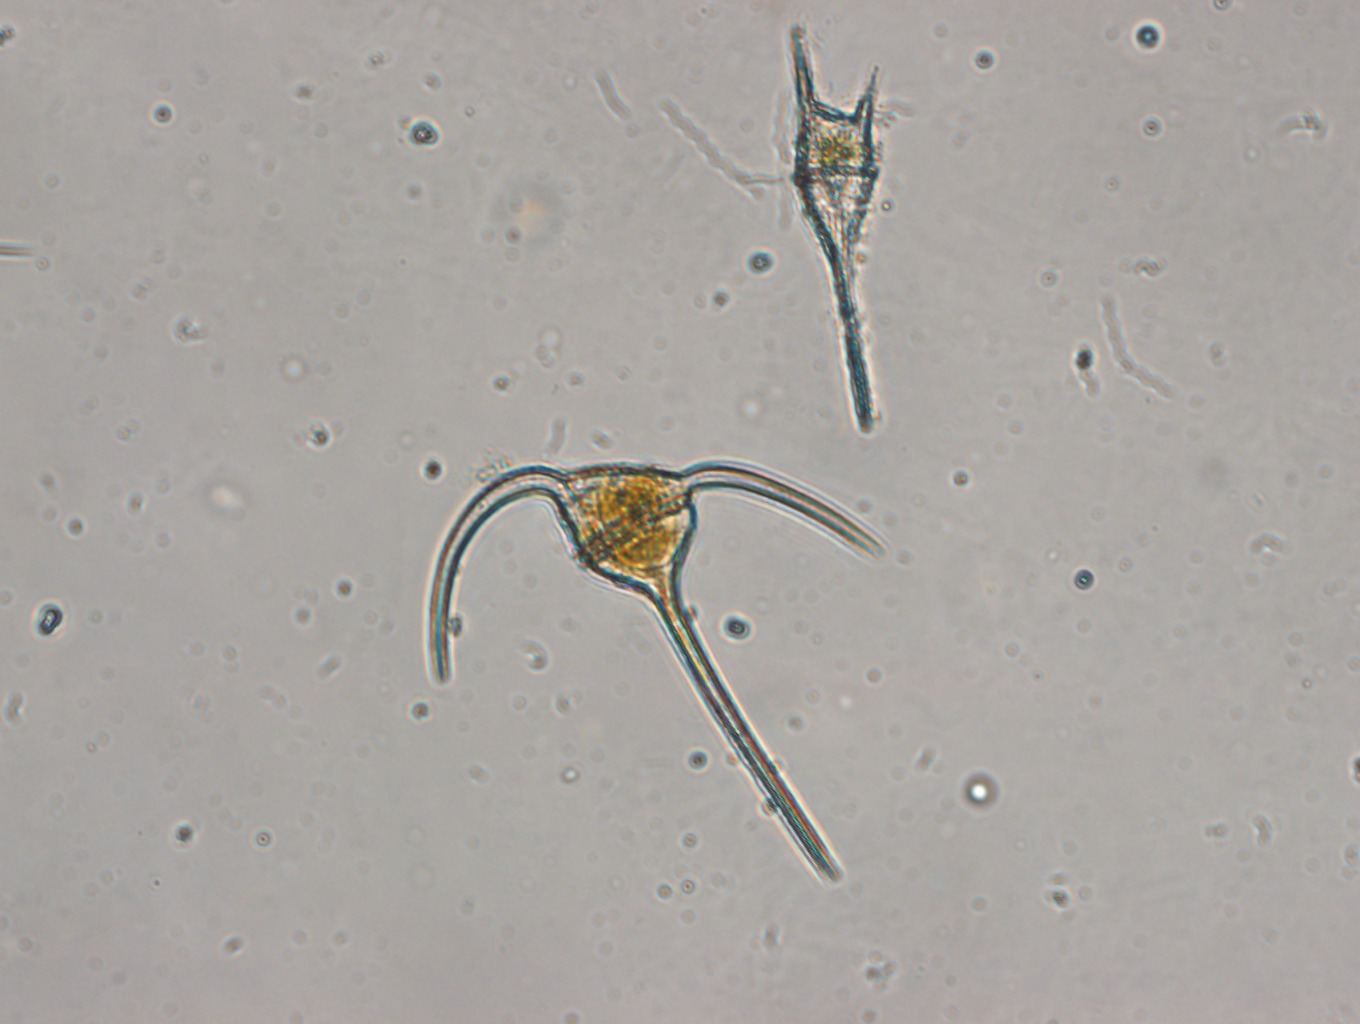ceratium furca: (777, 26, 912, 439)
ceratium trichoceros: (420, 449, 890, 887)
